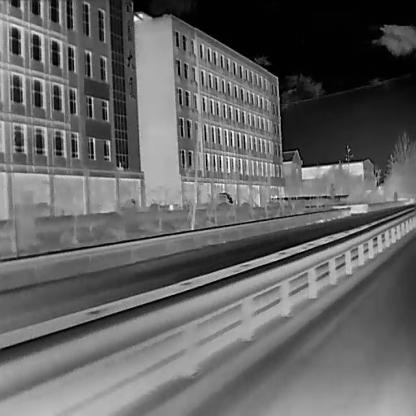truck: (196, 191, 233, 210)
